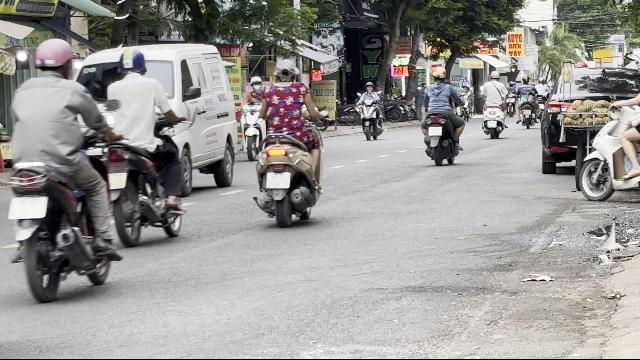helmet: (32, 38, 74, 76), (122, 46, 148, 76)
licenseplate: (9, 196, 47, 219), (266, 172, 290, 188), (108, 173, 126, 187)
motorcyclist: (1, 37, 119, 300), (100, 47, 190, 245), (250, 58, 326, 226)
nohelmet: (273, 58, 299, 84)
